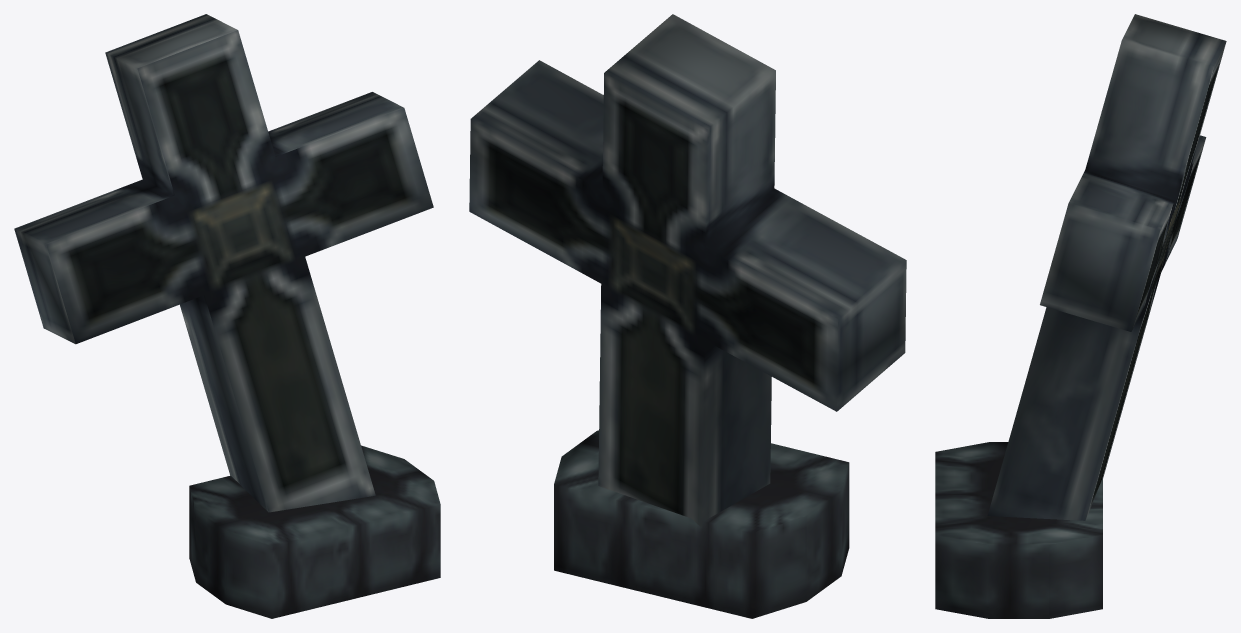
The model's file is cross.glb.
3 renders of one model, left to right at view 1: azimuth 30°, elevation 25°; view 2: azimuth 150°, elevation 25°; view 3: azimuth 270°, elevation 25°, orthographic. The views are drawn at different scales.
Parts seen in each view (by area): view 1: cross; view 2: cross; view 3: cross.
Boxes of the visible parts, bbox=[...] form: cross: bbox=[14, 14, 440, 618]; cross: bbox=[469, 14, 906, 618]; cross: bbox=[935, 14, 1226, 618].
Size of what is drawn, in the model's own units: 92.72 by 124 by 63.43.
1 material, 1 textured.
